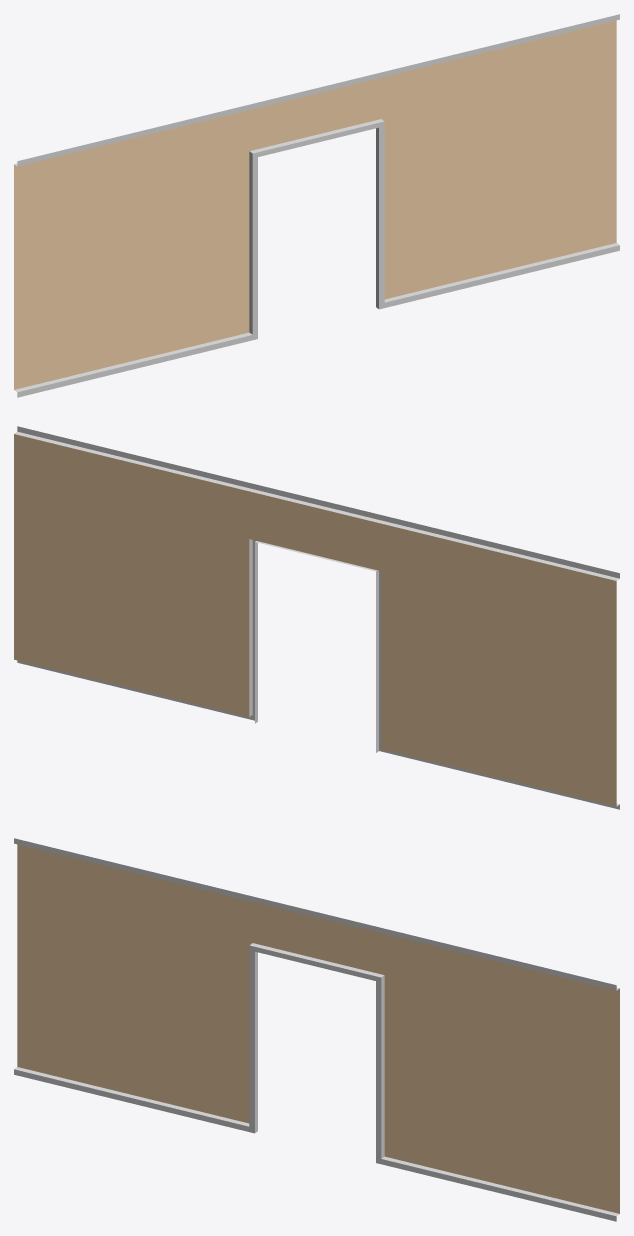
The model's file is WallDoorway.fbx.
The picture shows the model from 3 angles, top to bottom: view 1: azimuth 30°, elevation 25°; view 2: azimuth 150°, elevation 25°; view 3: azimuth 330°, elevation 25°; orthographic projection.
Parts seen in each view (by area): view 1: Wall_Door01; view 2: Wall_Door01; view 3: Wall_Door01.
Part boxes in pixels (x1,y1,x2,y2): Wall_Door01: (14,14,619,397); Wall_Door01: (14,426,619,809); Wall_Door01: (14,838,619,1221).
Bounding box in the file's own units: 8 × 3 × 0.0751.
